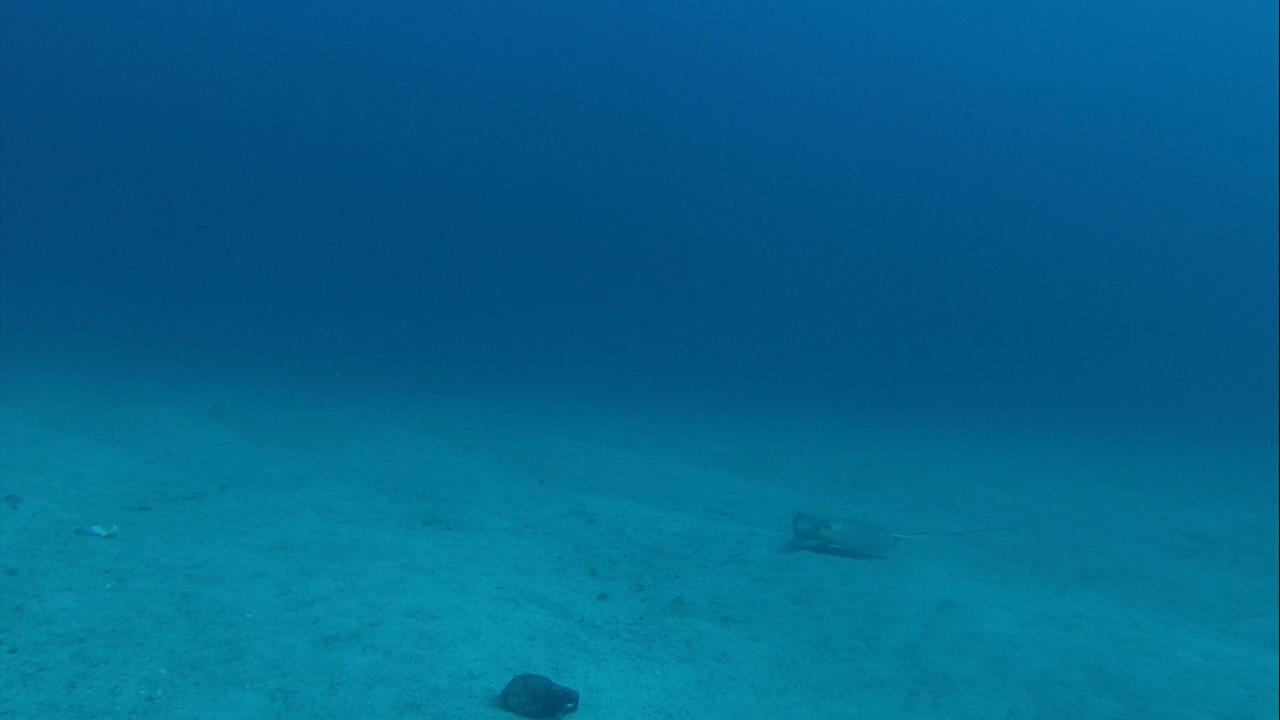myliobatis: (775, 502, 1023, 570)
